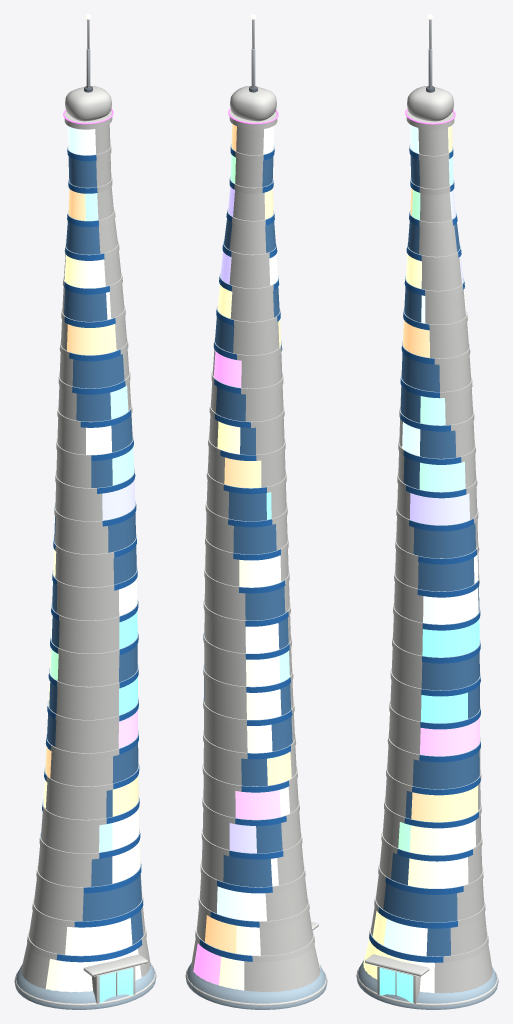
Rendered from arranha_ceu_s_branca_azul.glb.
3 renders of one model, left to right at view 1: azimuth 30°, elevation 25°; view 2: azimuth 150°, elevation 25°; view 3: azimuth 330°, elevation 25°, orthographic.
Visible parts, largest first — view 1: arranha_ceu_s_branca_azul; view 2: arranha_ceu_s_branca_azul; view 3: arranha_ceu_s_branca_azul.
Part boxes in pixels (<box>): arranha_ceu_s_branca_azul: <box>14,14,156,1009</box>; arranha_ceu_s_branca_azul: <box>185,14,327,1009</box>; arranha_ceu_s_branca_azul: <box>356,14,498,1009</box>.
Bounding box in the file's own units: 12.9 × 94.55 × 11.98.
12 materials, 1 textured.
